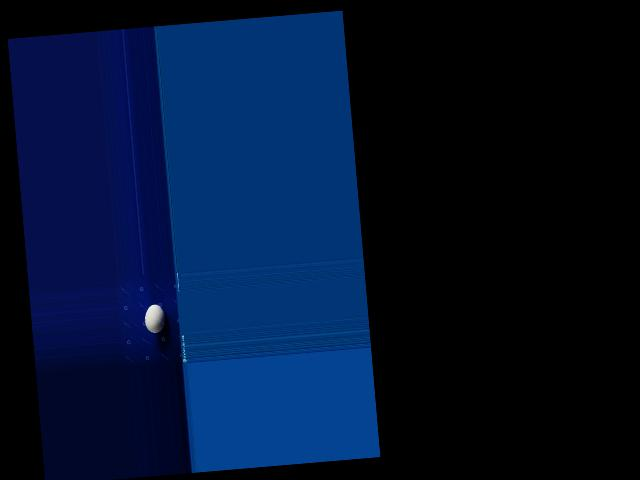egg: (144, 303, 166, 333)
